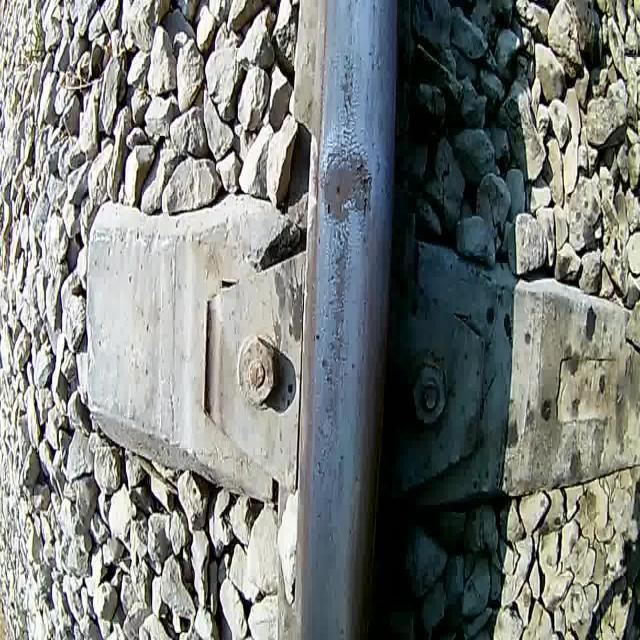Squats: (322, 150, 377, 232)
